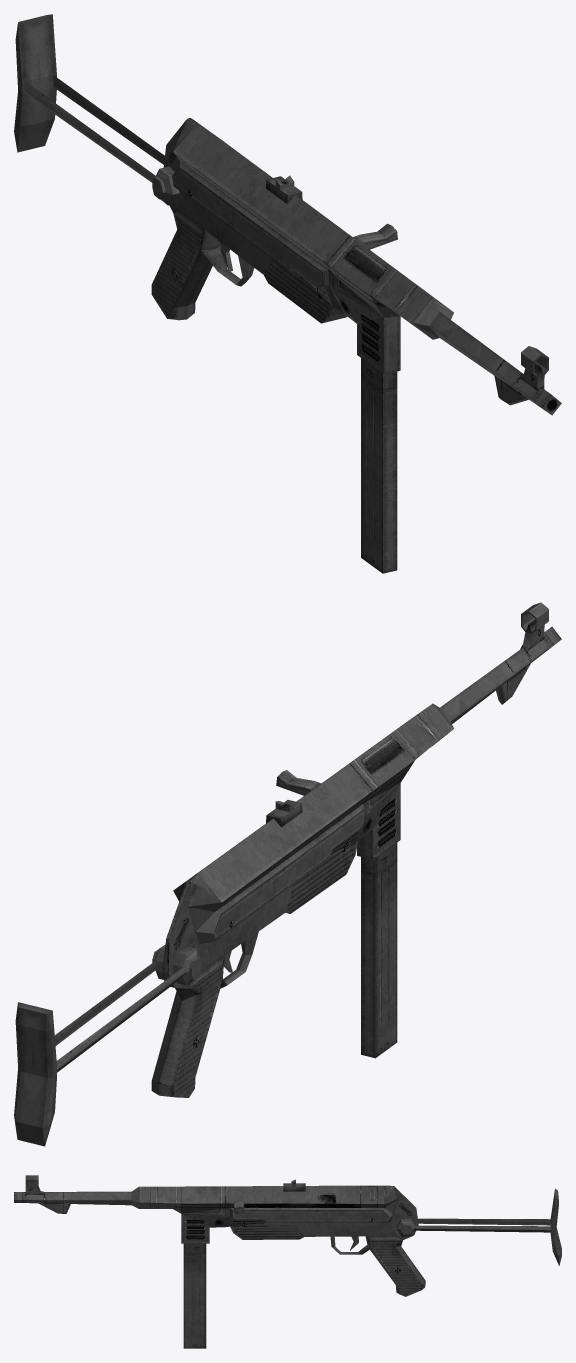
File: mp40_mobil.glb
3 renders of one model, top to bottom at view 1: azimuth 30°, elevation 25°; view 2: azimuth 150°, elevation 25°; view 3: azimuth 270°, elevation 25°, orthographic. The views are drawn at different scales.
Parts seen in each view (by area): view 1: MP 40, magazine, gun butt 2, gun butt; view 2: MP 40, magazine, gun butt 2, gun butt; view 3: MP 40, magazine, gun butt, gun butt 2.
Boxes of the visible parts, x1,y1,x2,y2 form: MP 40: (151,118,561,415); magazine: (361,358,397,573); gun butt 2: (14,14,56,152); gun butt: (22,75,179,205); MP 40: (151,602,561,1097); magazine: (361,843,397,1058); gun butt 2: (14,1002,56,1146); gun butt: (54,944,202,1072); MP 40: (14,1175,425,1296); magazine: (183,1243,206,1348); gun butt: (396,1218,550,1236); gun butt 2: (550,1188,561,1265).
Bounding box in the file's own units: 0.074 × 0.2867 × 0.83.
1 material, 1 textured.
